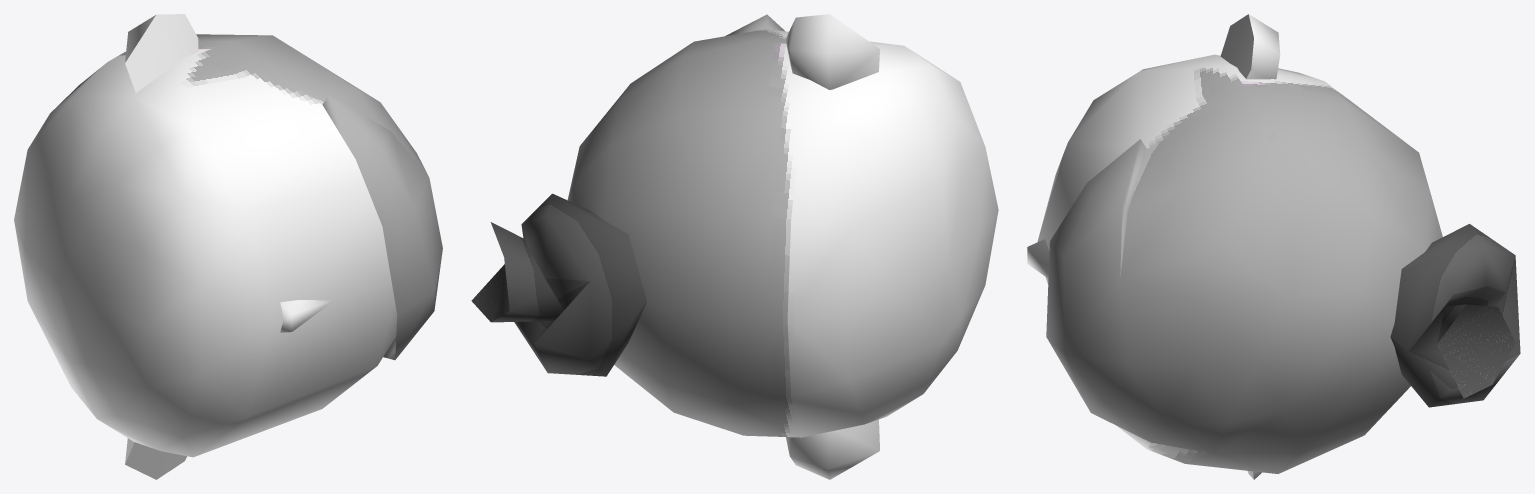
File: girl05a.dae
3 views of the same model, side by side, from view 1: azimuth 30°, elevation 25°; view 2: azimuth 150°, elevation 25°; view 3: azimuth 270°, elevation 25° (orthographic).
Visible parts, largest first — view 1: girl05a; view 2: girl05a; view 3: girl05a.
Part boxes in pixels (x1,y1,x2,y2): girl05a: [14, 14, 442, 479]; girl05a: [471, 14, 998, 479]; girl05a: [1027, 14, 1520, 479].
Bounding box in the file's own units: 21.54 × 26.71 × 25.95.
3 materials, 1 textured.
